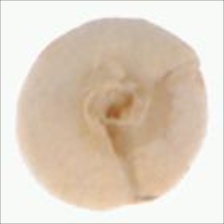L3: (80, 74, 147, 141)
L4: (15, 17, 208, 211)
